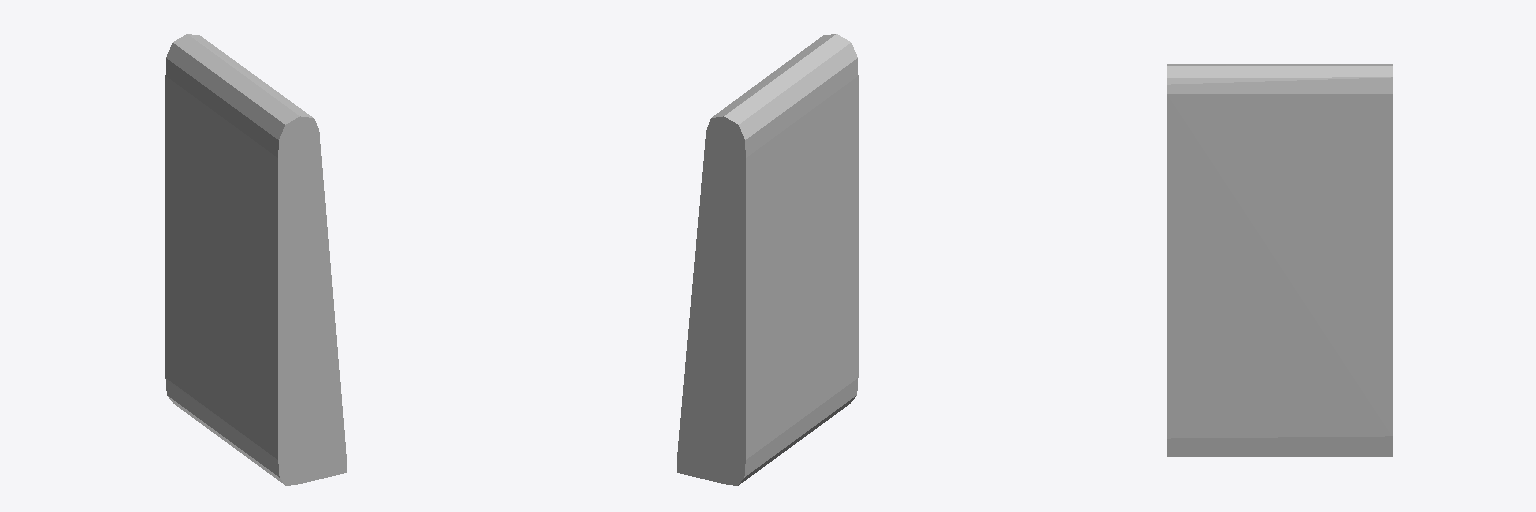
Rendered from ShipScene_collision_18.obj.
3 renders of one model, left to right at view 1: azimuth 30°, elevation 25°; view 2: azimuth 150°, elevation 25°; view 3: azimuth 270°, elevation 25°, orthographic.
Size of the model in its own units: 20.45 by 105 by 58.48.